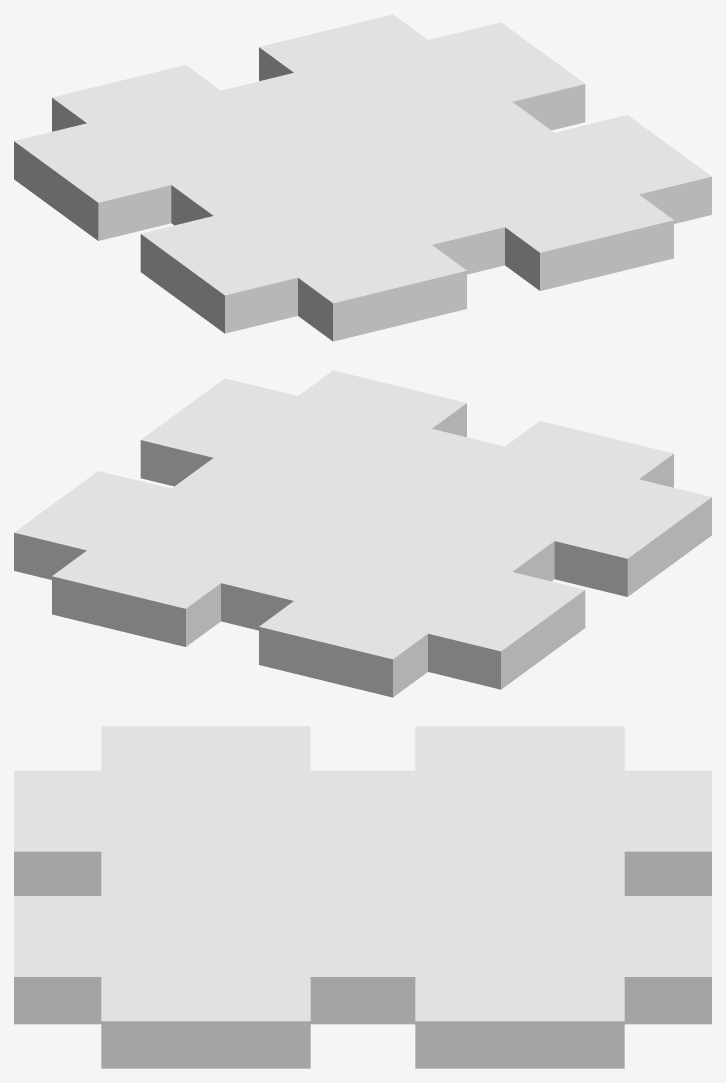
File: cursor.obj
3 renders of one model, top to bottom at view 1: azimuth 30°, elevation 25°; view 2: azimuth 150°, elevation 25°; view 3: azimuth 270°, elevation 25°, orthographic. The views are drawn at different scales.
Size of the model in its own units: 40 by 3 by 40.
Materials: 1 (1 with a texture image).
